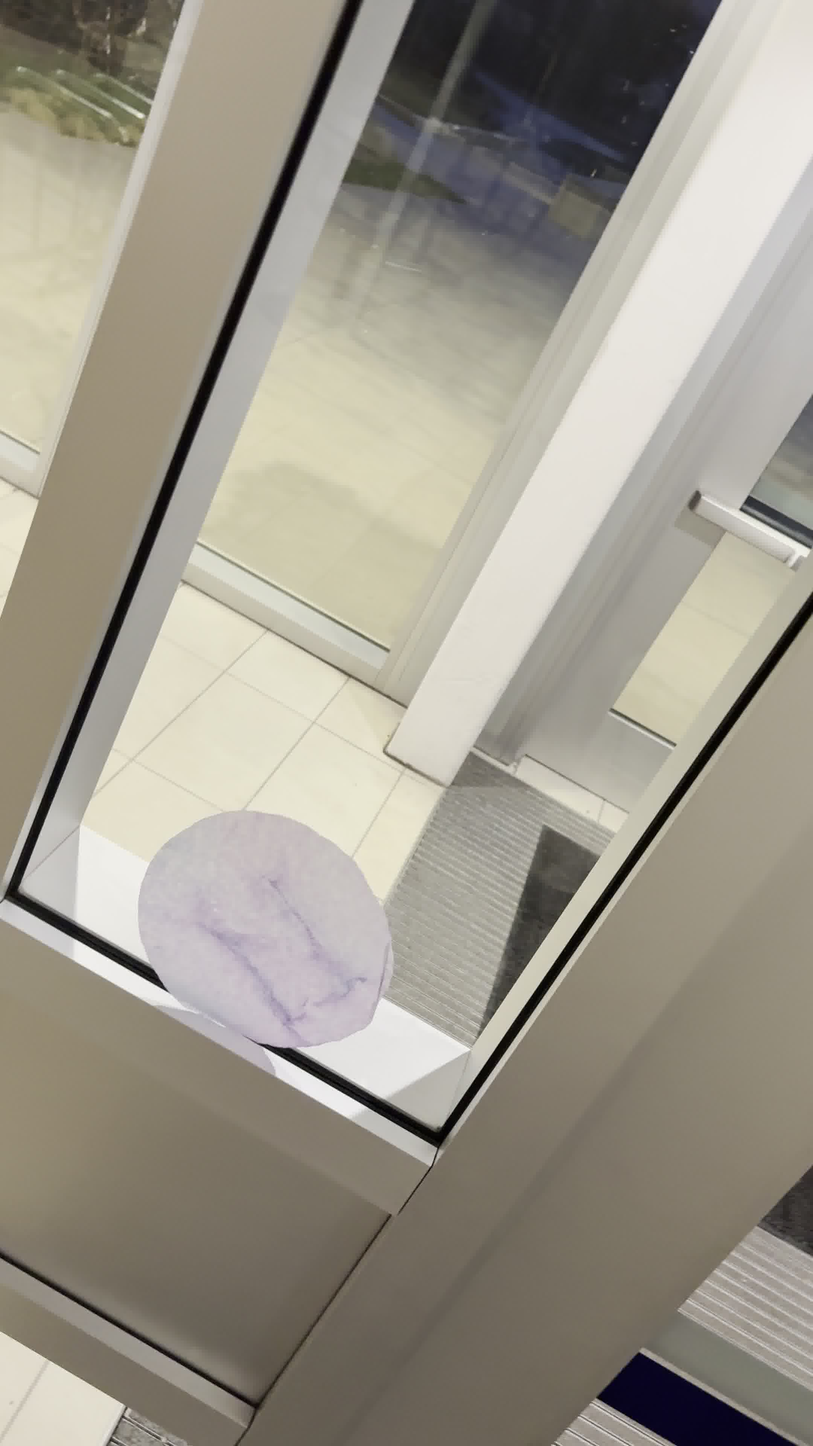Target: (131, 802, 401, 1056)
